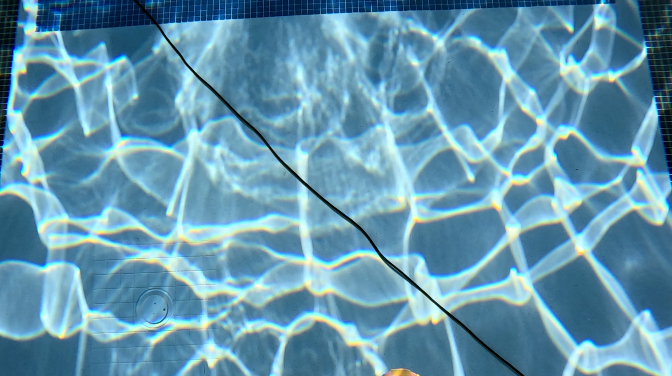pathmarker: (383, 369, 418, 375)
